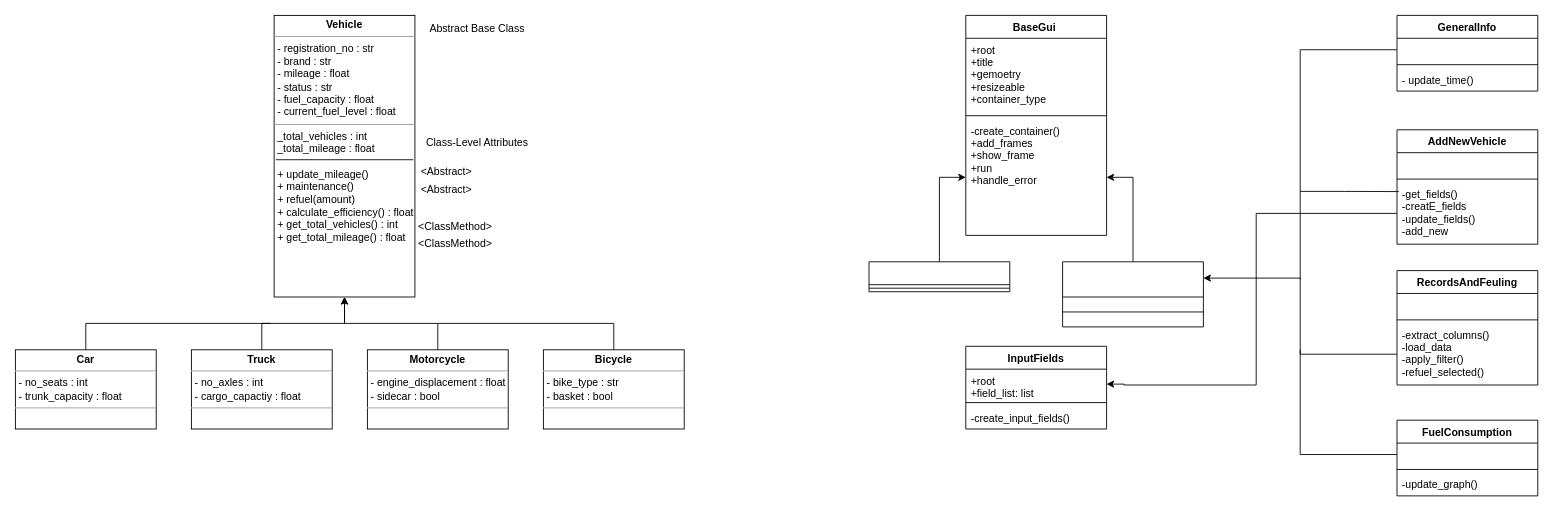
Some shapes in this 1553 by 514 pixel diagram are drawn without their labels. Each missing label, with the centre of its shape:
"FrameBasedGui" belongs at [939,276].
"NoteBook BasedGui" belongs at [1132,294].
